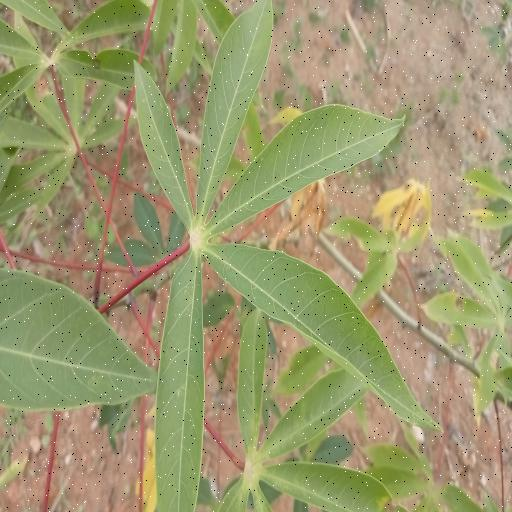Cassava_Healthy: (132, 2, 425, 510)
